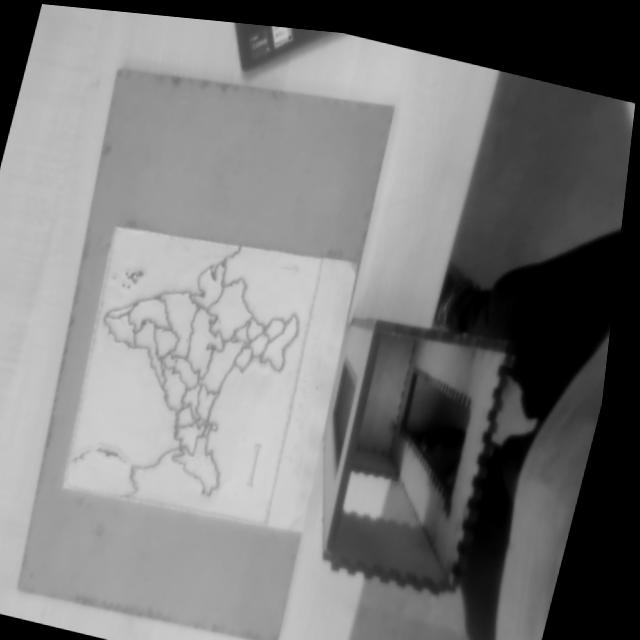map: (61, 215, 323, 527)
